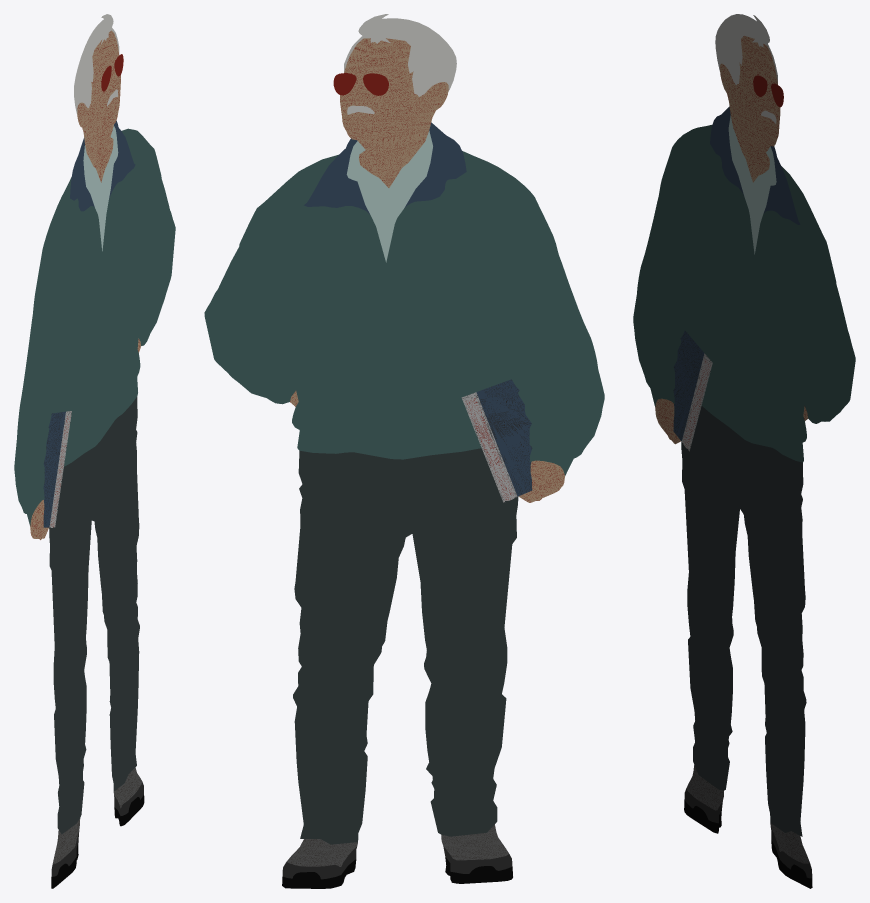
The picture shows the model from 3 angles, left to right: view 1: azimuth 30°, elevation 25°; view 2: azimuth 150°, elevation 25°; view 3: azimuth 270°, elevation 25°; orthographic projection. The views are drawn at different scales.
Visible parts, largest first — view 1: Steve (×15); view 2: Steve (×16); view 3: Steve (×14).
Part boxes in pixels (left/top/right/bottom): Steve (×15): left=14, top=14, right=175, bottom=888; Steve (×16): left=204, top=14, right=604, bottom=888; Steve (×14): left=633, top=14, right=855, bottom=888.
Bounding box in the file's own units: 22.78 × 15.96 × 66.71.
